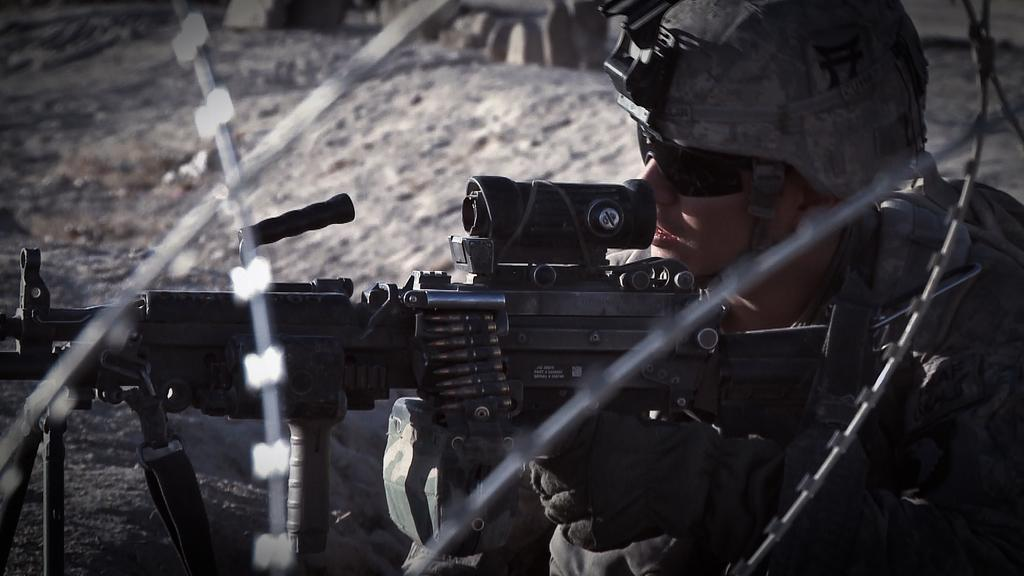Rifle: (0, 146, 906, 559)
